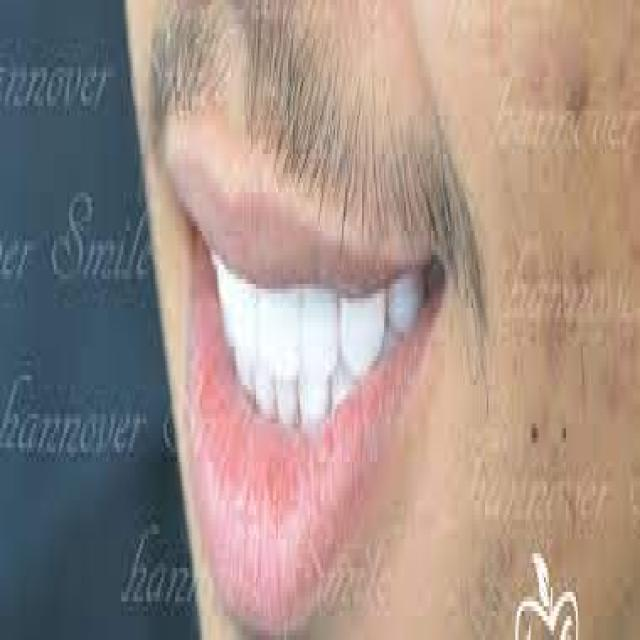tooth: (389, 260, 431, 356), (342, 288, 375, 371), (264, 294, 295, 356), (298, 366, 329, 428), (295, 294, 328, 346), (275, 361, 298, 428), (330, 361, 357, 414), (254, 351, 273, 414), (217, 265, 231, 337), (234, 337, 253, 390), (235, 303, 252, 342)
